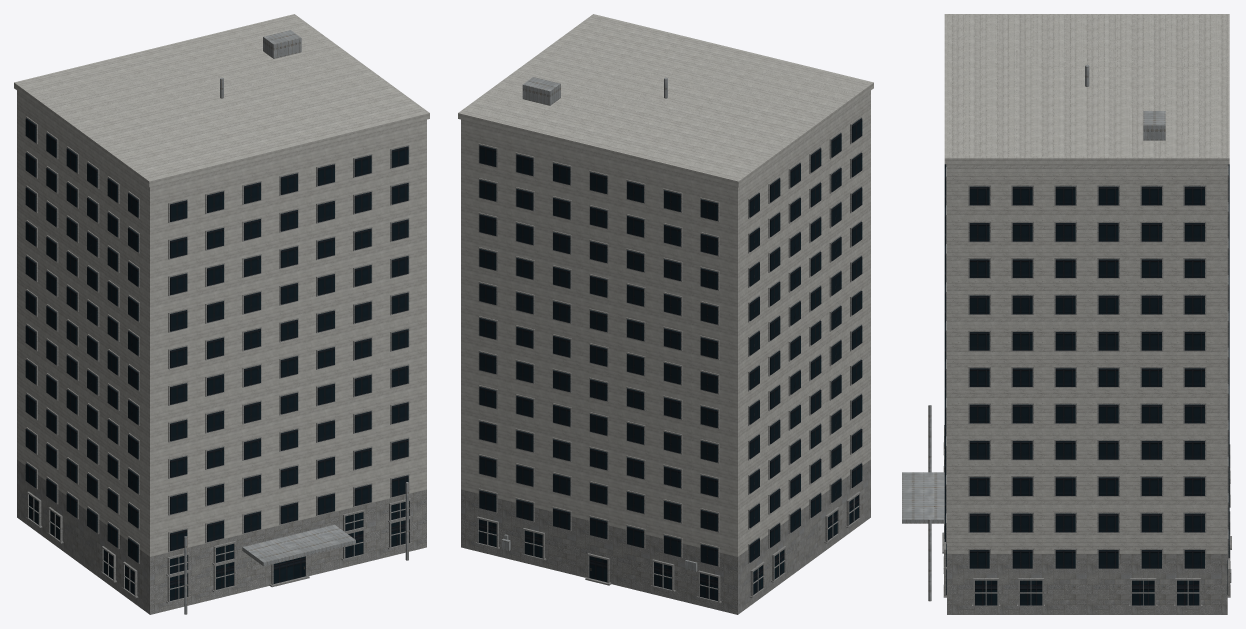
The model's file is state-street-annex_lod0.gltf.
The picture shows the model from 3 angles, left to right: view 1: azimuth 30°, elevation 25°; view 2: azimuth 150°, elevation 25°; view 3: azimuth 270°, elevation 25°; orthographic projection. The views are drawn at different scales.
Parts seen in each view (by area): view 1: state-street-annex_upper, state-street-annex_fen_07-glass-curtain-blue_1_t, state-street-annex__parapet, state-street-annex_fen_06-granite_0, state-street-annex_base, state-street-annex__canopy, state-street-annex__hvac; view 2: state-street-annex_upper, state-street-annex_fen_07-glass-curtain-blue_1_t, state-street-annex__parapet, state-street-annex_fen_06-granite_0, state-street-annex_base, state-street-annex__hvac; view 3: state-street-annex_upper, state-street-annex_fen_07-glass-curtain-blue_1_t, state-street-annex__parapet, state-street-annex_fen_06-granite_0, state-street-annex_base, state-street-annex__canopy, state-street-annex__hvac.
Part boxes in pixels (x1=…): state-street-annex_upper: x1=17, y1=15, x2=426, y2=556; state-street-annex_fen_07-glass-curtain-blue_1_t: x1=25, y1=118, x2=409, y2=600; state-street-annex__parapet: x1=14, y1=14, x2=429, y2=187; state-street-annex_fen_06-granite_0: x1=26, y1=116, x2=412, y2=603; state-street-annex_base: x1=17, y1=460, x2=426, y2=614; state-street-annex__canopy: x1=242, y1=524, x2=355, y2=566; state-street-annex__hvac: x1=263, y1=30, x2=301, y2=58; state-street-annex_upper: x1=461, y1=15, x2=870, y2=556; state-street-annex_fen_07-glass-curtain-blue_1_t: x1=478, y1=118, x2=862, y2=600; state-street-annex__parapet: x1=458, y1=14, x2=873, y2=187; state-street-annex_fen_06-granite_0: x1=475, y1=116, x2=861, y2=603; state-street-annex_base: x1=461, y1=460, x2=870, y2=614; state-street-annex__hvac: x1=522, y1=77, x2=560, y2=105; state-street-annex_upper: x1=947, y1=15, x2=1227, y2=553; state-street-annex_fen_07-glass-curtain-blue_1_t: x1=944, y1=164, x2=1229, y2=605; state-street-annex__parapet: x1=944, y1=14, x2=1229, y2=164; state-street-annex_fen_06-granite_0: x1=942, y1=164, x2=1231, y2=607; state-street-annex_base: x1=947, y1=554, x2=1227, y2=614; state-street-annex__canopy: x1=902, y1=472, x2=944, y2=523; state-street-annex__hvac: x1=1143, y1=111, x2=1165, y2=140.
Bounding box in the file's own units: 30.55 × 47 × 29.4.
